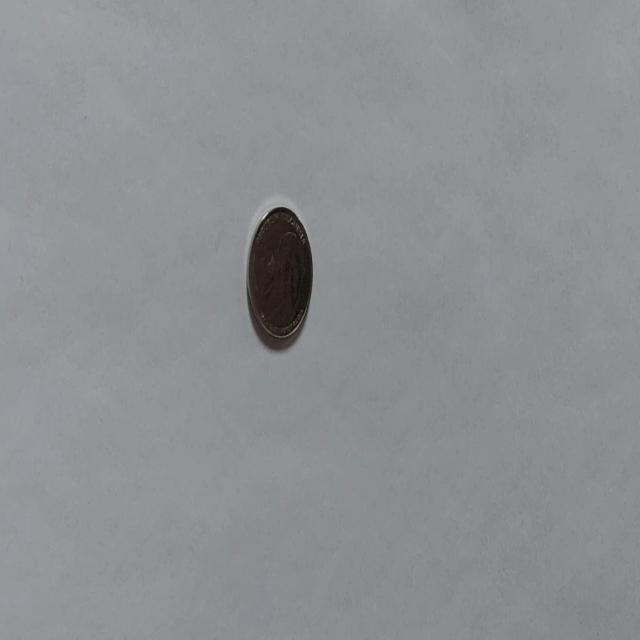seribu rupiah koin: (244, 203, 314, 345)
